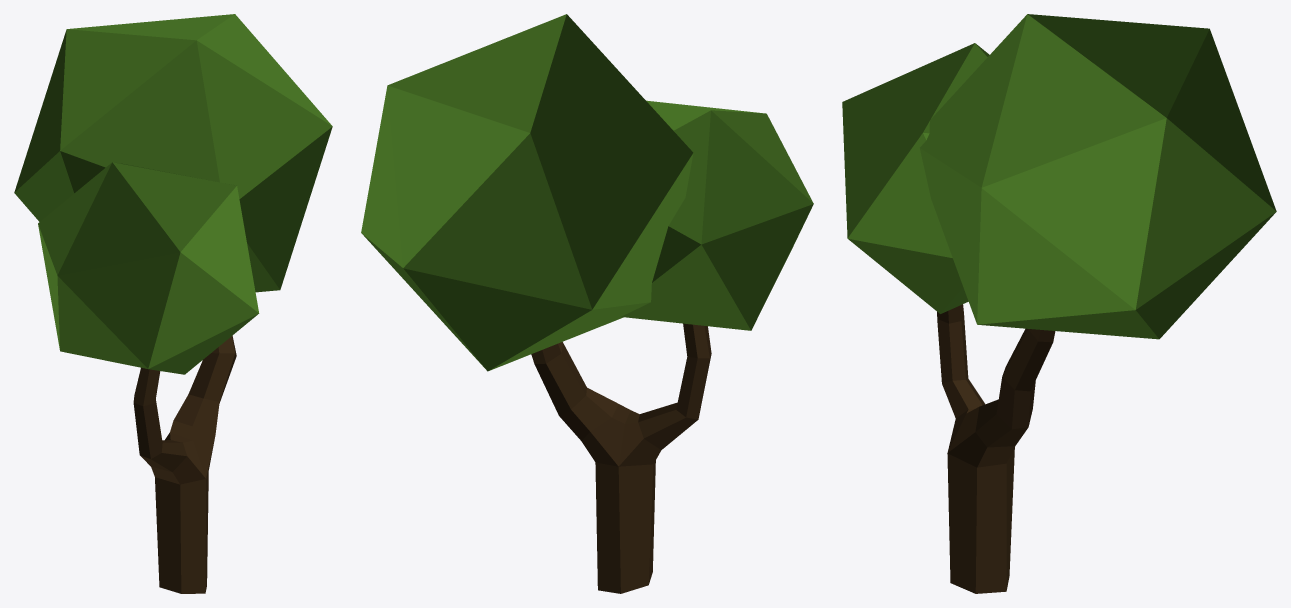
File: tree 1.fbx
The picture shows the model from 3 angles, left to right: view 1: azimuth 30°, elevation 25°; view 2: azimuth 150°, elevation 25°; view 3: azimuth 270°, elevation 25°; orthographic projection. The views are drawn at different scales.
Parts seen in each view (by area): view 1: Default001; view 2: Default001; view 3: Default001.
Boxes of the visible parts, x1,y1,x2,y2 form: Default001: (14,14,332,593); Default001: (361,14,813,593); Default001: (842,14,1276,593).
Bounding box in the file's own units: 3.41 × 5.35 × 3.58.
